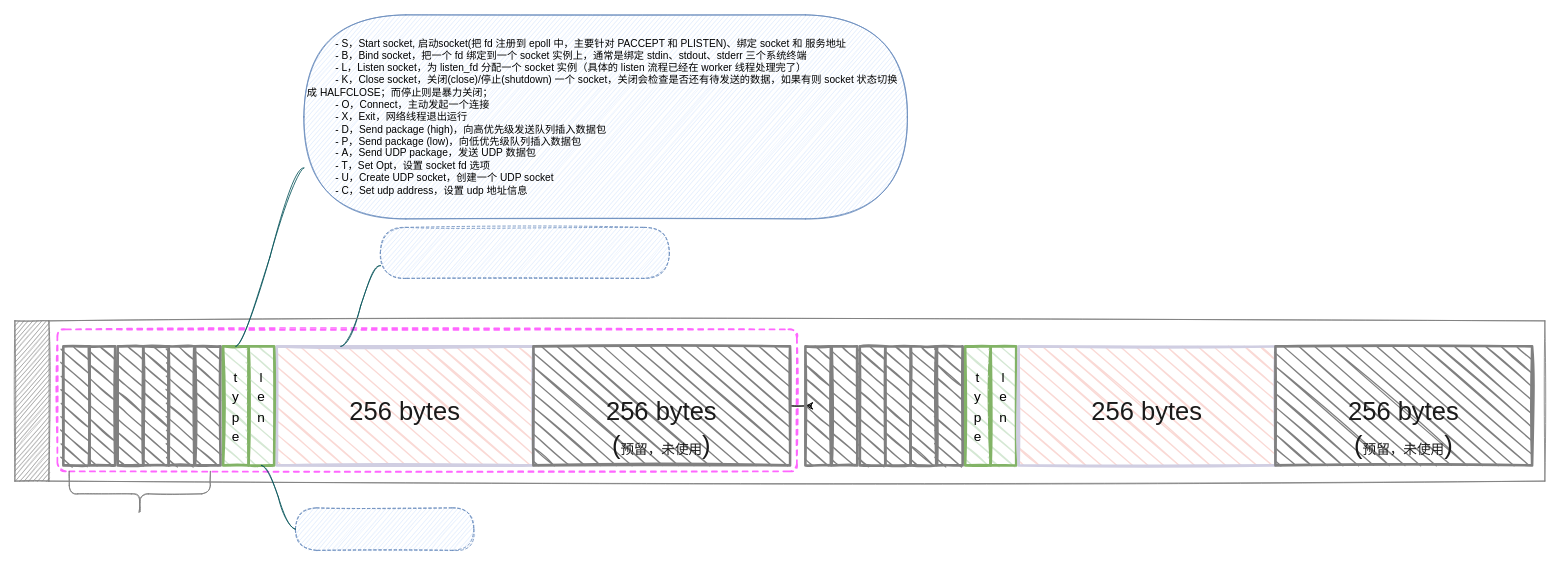
This 1560x565 diagram has some shape labels left out. Here are the shapes that lost their labels. From the top down, the box of each, then its label:
(380, 227, 669, 278): 这里的 buffer 基本等同于 sendbuffer->buffer ， 若是 rawpointer 类型的指针，则是拷贝过的内存地址
(14, 320, 1545, 481): 管道
(68, 470, 210, 516): 预留，未使用
(295, 507, 474, 550): 命令内容长度，一个字节，它限制了命令的消息内容长度 <= 255
